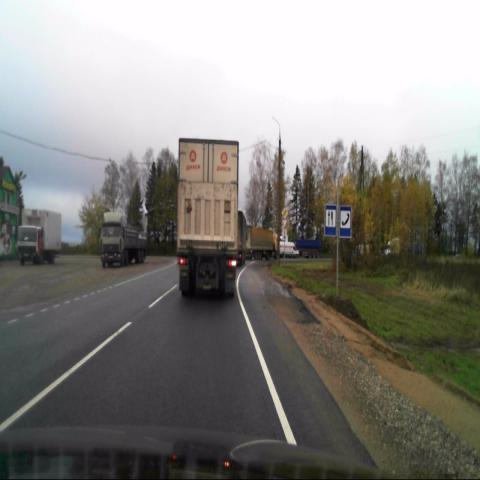7_6: (339, 206, 351, 238)
7_7: (326, 205, 336, 235)
